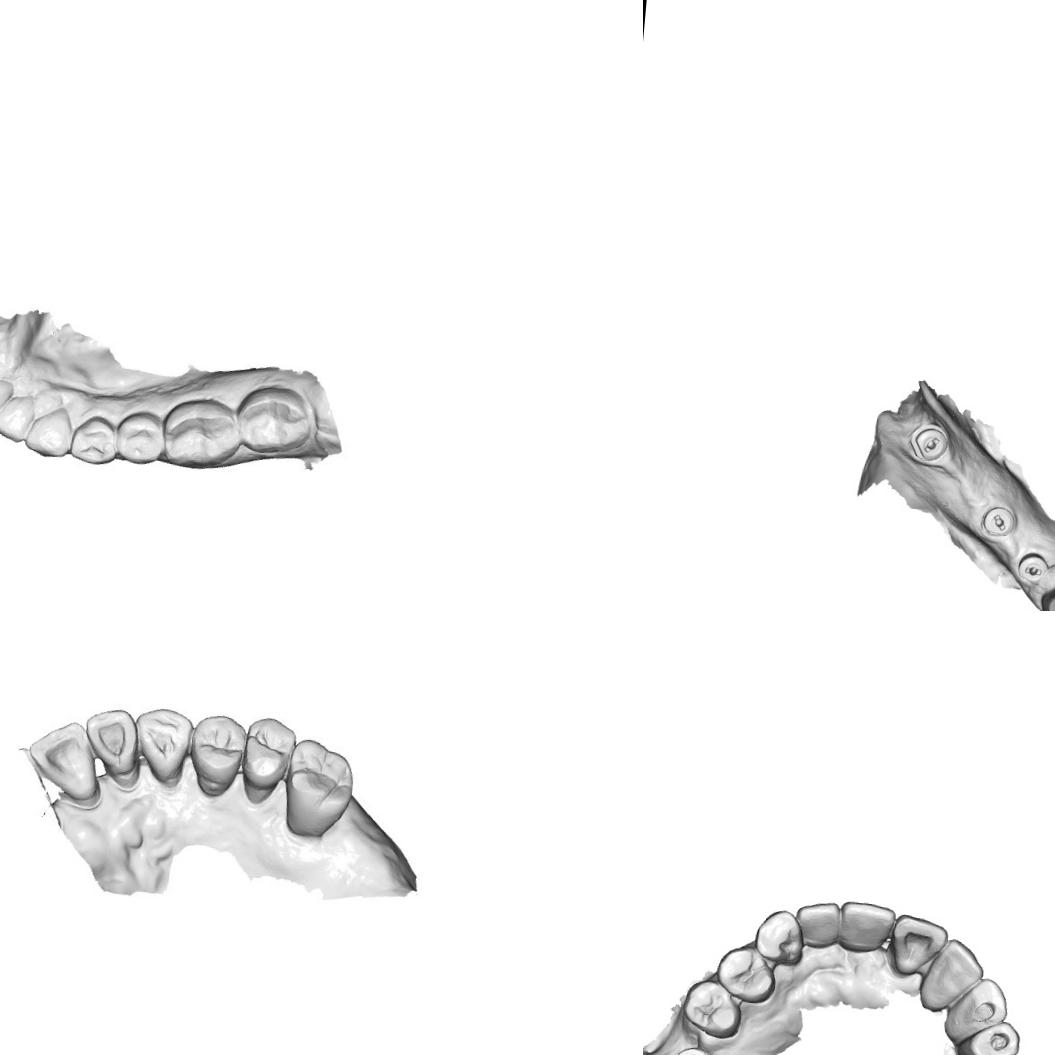canine: (132, 703, 194, 784), (944, 973, 1011, 1040), (751, 905, 807, 967), (20, 405, 80, 460)
implant: (669, 1044, 714, 1055)
implant_minus: (907, 418, 951, 468), (979, 502, 1020, 541), (1013, 549, 1052, 589)
incisor: (24, 714, 101, 800), (78, 703, 142, 789), (886, 912, 950, 979), (926, 934, 986, 1003), (836, 898, 897, 956), (792, 897, 845, 951), (0, 394, 31, 438)
molar: (282, 734, 357, 831), (232, 383, 319, 457), (158, 395, 238, 472)
premolar: (235, 713, 297, 795), (185, 712, 248, 790), (678, 975, 745, 1040), (712, 942, 779, 1006), (110, 406, 168, 466), (68, 412, 116, 470), (953, 1015, 1022, 1055)
